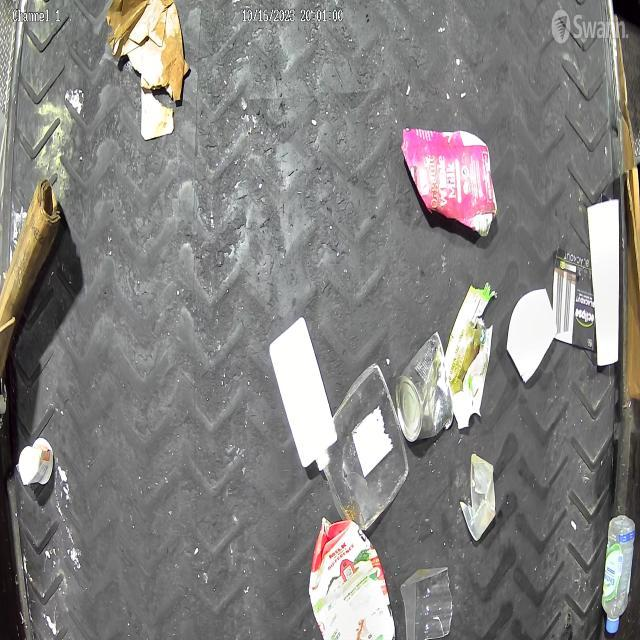can: (396, 331, 454, 441)
milk_jug: (268, 318, 340, 474)
non_white_jug: (310, 510, 398, 640)
plastic_bottle: (600, 513, 636, 635)
